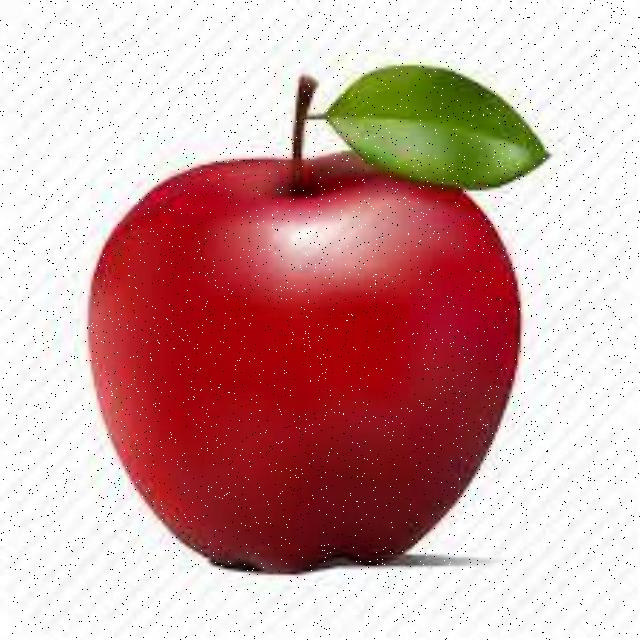HEALTHY: (62, 135, 550, 579)
